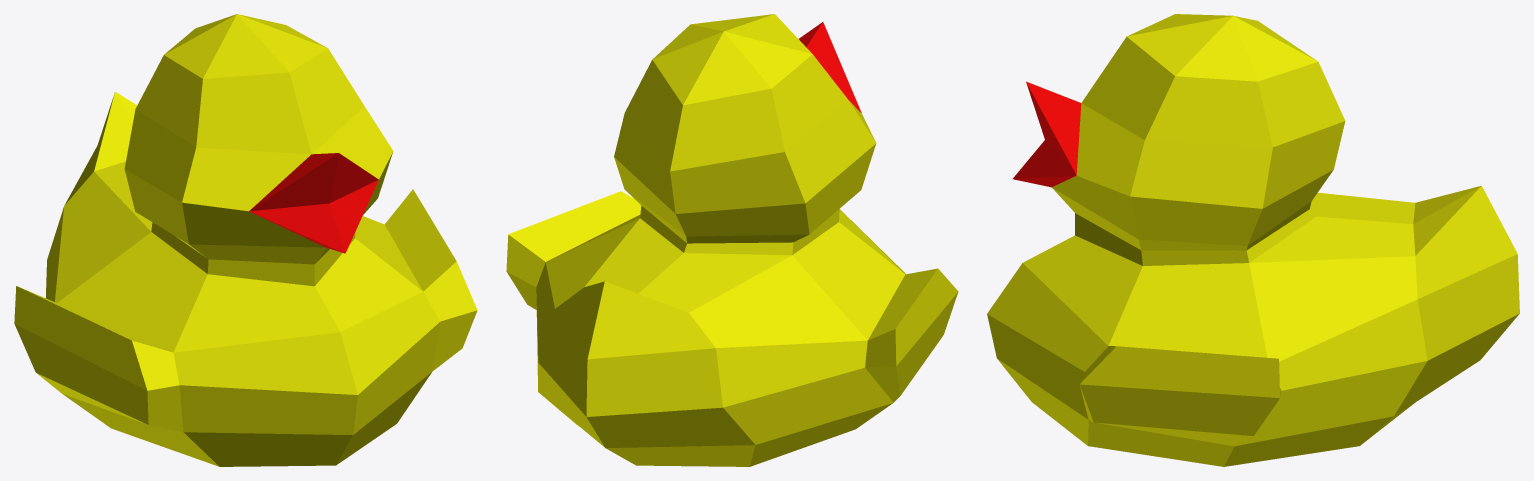
Rendered from duck.fbx.
3 views of the same model, side by side, from view 1: azimuth 30°, elevation 25°; view 2: azimuth 150°, elevation 25°; view 3: azimuth 270°, elevation 25° (orthographic). The views are drawn at different scales.
Parts seen in each view (by area): view 1: Duckie; view 2: Duckie; view 3: Duckie.
Part boxes in pixels (x1=…): Duckie: x1=14, y1=14, x2=477, y2=466; Duckie: x1=506, y1=14, x2=958, y2=466; Duckie: x1=987, y1=14, x2=1519, y2=466.
Bounding box in the file's own units: 2.03 × 1.84 × 2.3.
